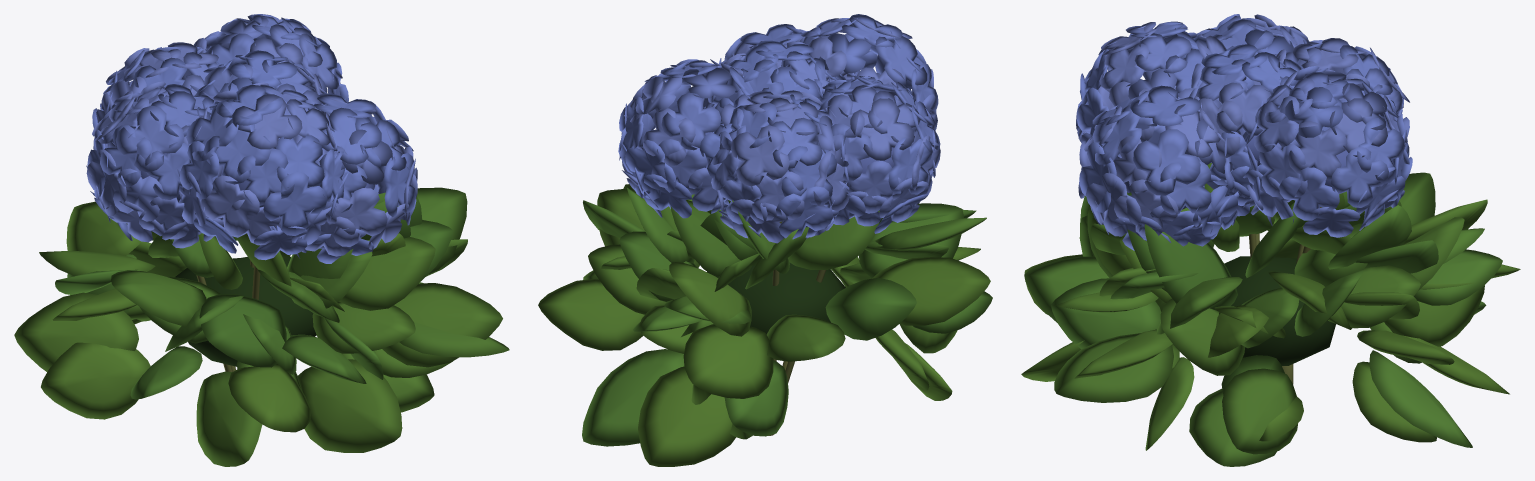
File: bed_hydrangea_blue.glb
The picture shows the model from 3 angles, left to right: view 1: azimuth 30°, elevation 25°; view 2: azimuth 150°, elevation 25°; view 3: azimuth 270°, elevation 25°; orthographic projection. The views are drawn at different scales.
Visible parts, largest first — view 1: Sammel Pflanze, Sammel Blatt; view 2: Sammel Pflanze, Sammel Blatt; view 3: Sammel Pflanze, Sammel Blatt.
Boxes of the visible parts, x1,y1,x2,y2 form: Sammel Pflanze: (14,14,509,466); Sammel Blatt: (175,256,316,366); Sammel Pflanze: (538,14,992,466); Sammel Blatt: (707,263,845,334); Sammel Pflanze: (1021,14,1520,466); Sammel Blatt: (1224,256,1335,365).
Bounding box in the file's own units: 0.7978 × 0.7317 × 0.8226.
